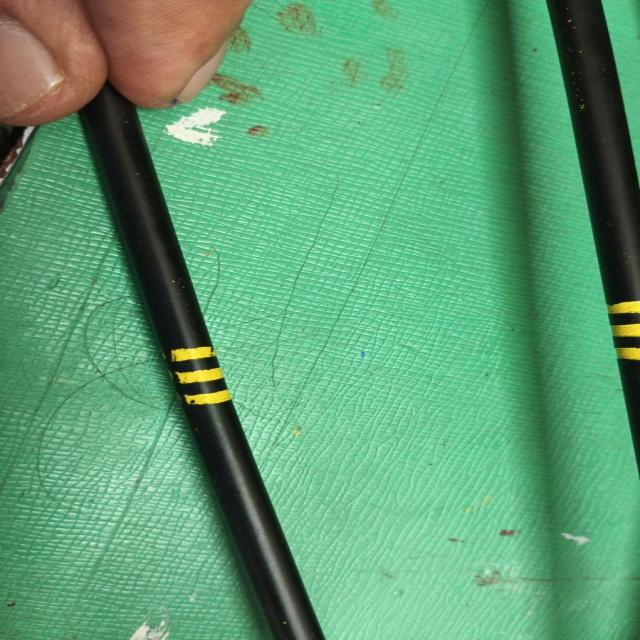yellow: (161, 347, 233, 408), (605, 299, 639, 359)
